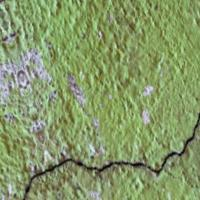crack: (3, 109, 199, 199)
